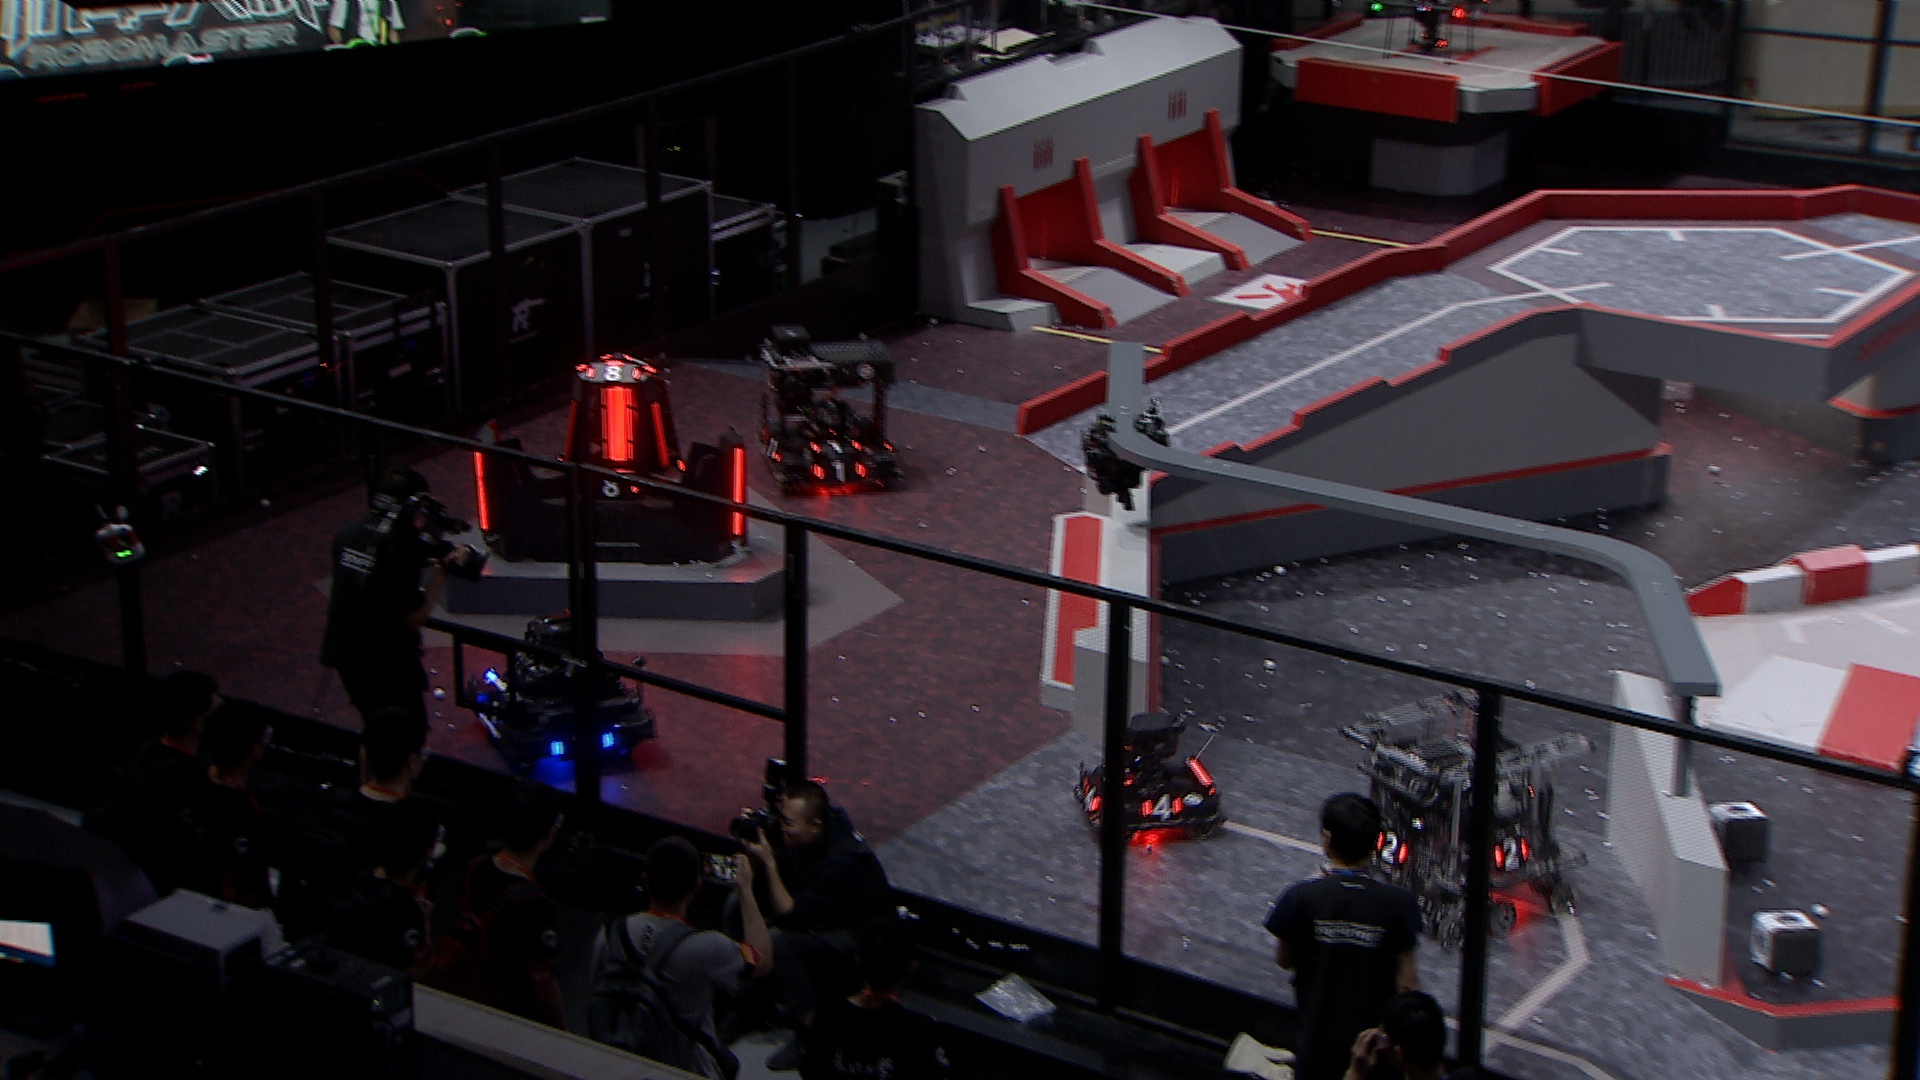armor: (597, 386, 641, 465), (472, 452, 495, 534), (591, 475, 645, 504), (731, 446, 746, 541), (651, 401, 673, 472), (582, 363, 644, 385), (560, 396, 580, 465), (814, 462, 872, 485), (1139, 794, 1185, 822), (1491, 837, 1528, 870), (1375, 831, 1408, 866), (808, 436, 865, 456), (475, 694, 506, 727), (760, 434, 785, 465), (1083, 779, 1101, 818)
base: (465, 351, 764, 568)
car: (1331, 687, 1596, 938), (463, 603, 661, 770), (750, 324, 907, 493), (1069, 705, 1226, 845)
watcher: (1079, 398, 1176, 510)
